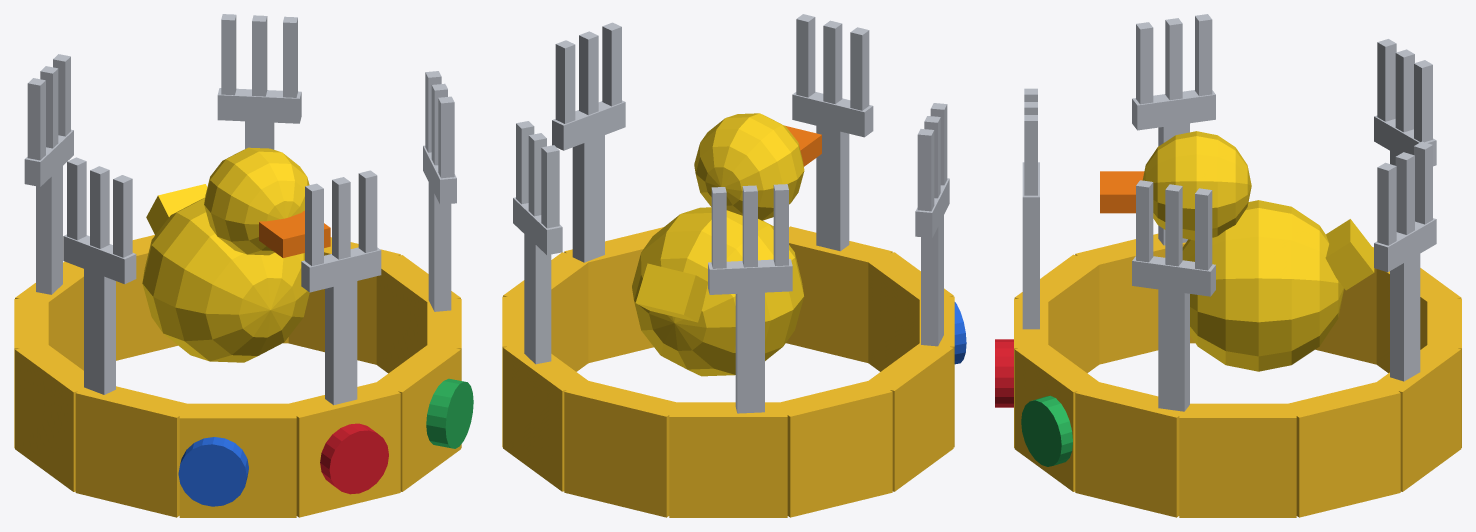
Rendered from hat_junkcrown.fbx.
3 renders of one model, left to right at view 1: azimuth 30°, elevation 25°; view 2: azimuth 150°, elevation 25°; view 3: azimuth 270°, elevation 25°, orthographic.
Visible parts, largest first — view 1: hat_junkcrown; view 2: hat_junkcrown; view 3: hat_junkcrown.
Part boxes in pixels (x1,y1,x2,y2): hat_junkcrown: [14, 14, 473, 517]; hat_junkcrown: [502, 14, 966, 517]; hat_junkcrown: [995, 14, 1461, 517].
Size of the model in its own units: 130 by 102 by 136.
1 material, 1 textured.
